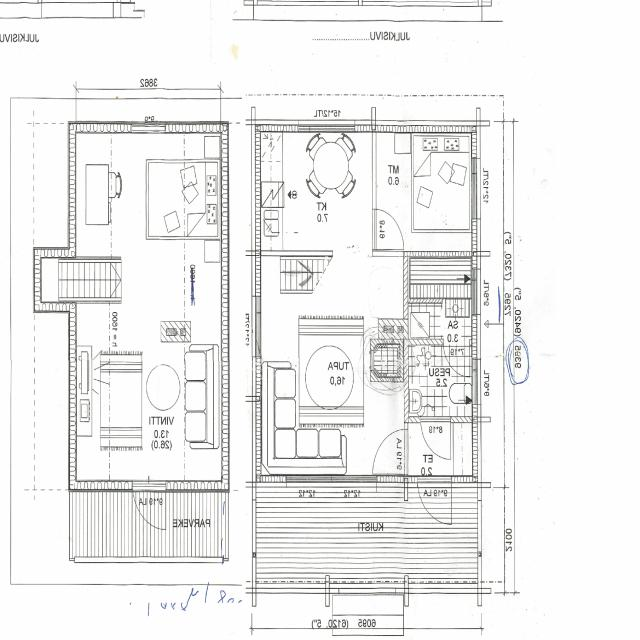door: (418, 476, 452, 533), (133, 480, 166, 536), (371, 429, 409, 474), (421, 416, 451, 463), (372, 209, 406, 248), (443, 339, 470, 381)
